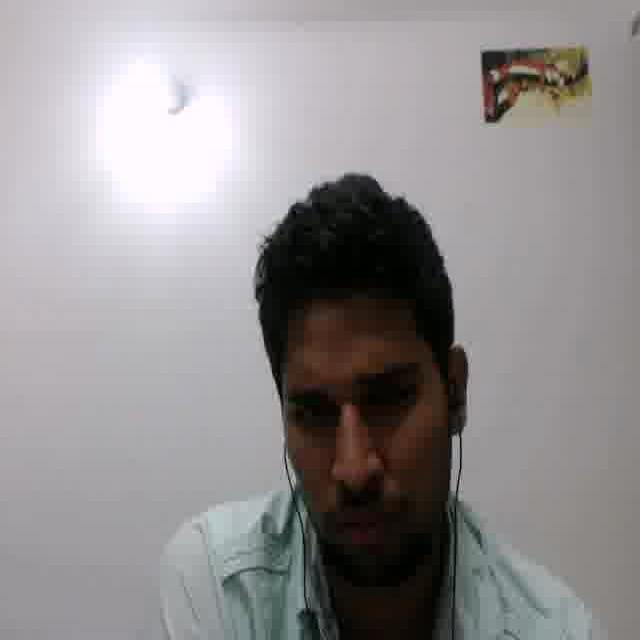Frustration: (273, 292, 443, 576)
